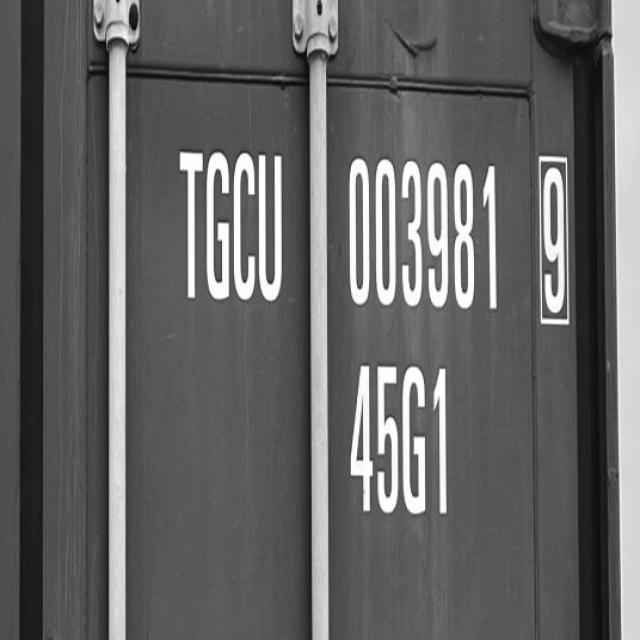dv: (528, 142, 578, 332)
owner: (158, 137, 290, 306)
serial: (334, 138, 507, 324)
size: (341, 357, 454, 527)
